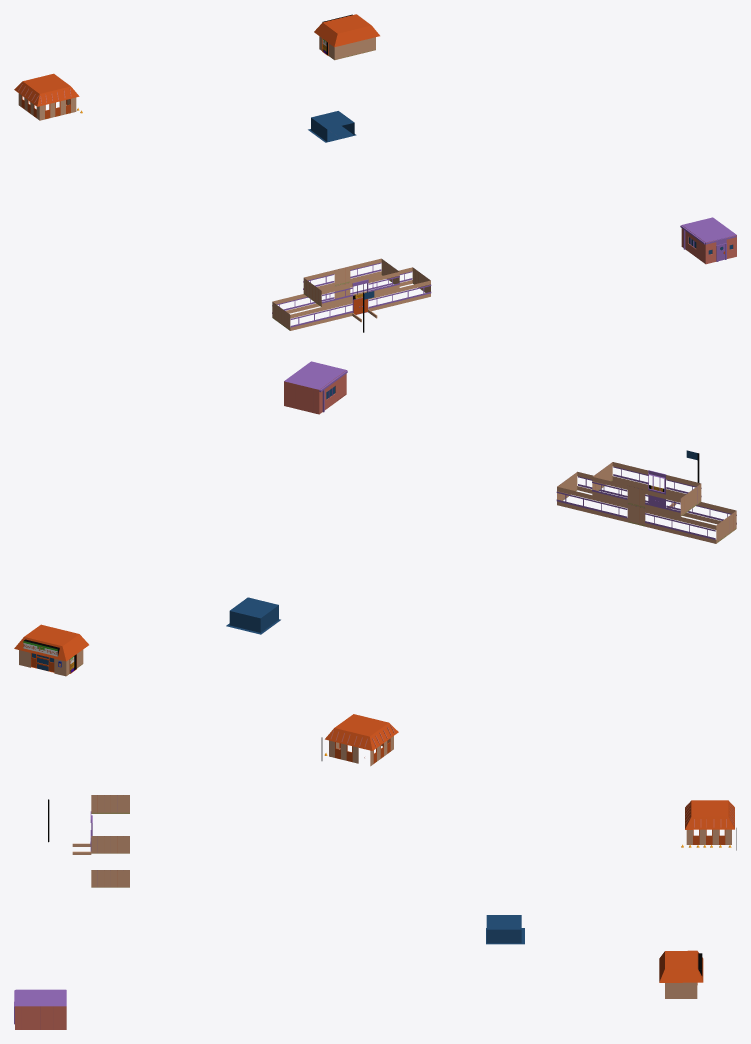
File: object_13_lev3.glb
3 views of the same model, one above another, from view 1: azimuth 30°, elevation 25°; view 2: azimuth 150°, elevation 25°; view 3: azimuth 270°, elevation 25° (orthographic). The views are drawn at different scales.
Visible parts, largest first — view 1: object_13_lev3; view 2: object_13_lev3; view 3: object_13_lev3.
Boxes of the visible parts, <box> form: object_13_lev3: <box>14,14,736,332</box>; object_13_lev3: <box>14,361,736,766</box>; object_13_lev3: <box>14,795,736,1029</box>.
Bounding box in the file's own units: 42.09 × 4.01 × 59.53.
1 material, 1 textured.
